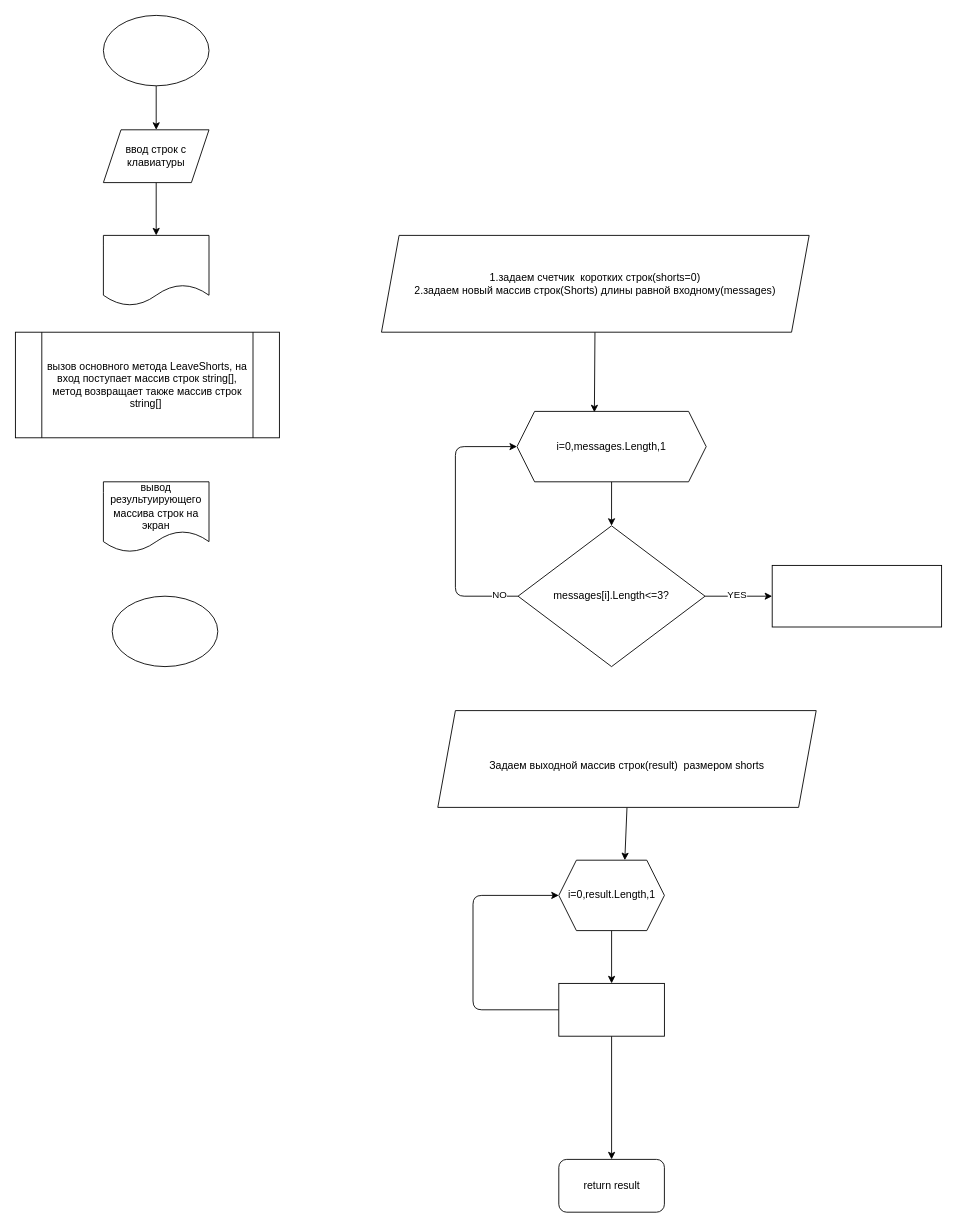
Image size: 957x1228. Some labels were removed from this diagram. Each missing label, with the centre of its shape:
"result[i]=Shorts[i]" goes at [611,1009].
"Shorts[shorts]=messages[i] shorts=shorts+1" goes at [856,596].
"Вывод массива строк на экран" goes at [156,270].
"конец" goes at [164,631].
"Старт" goes at [156,50].
